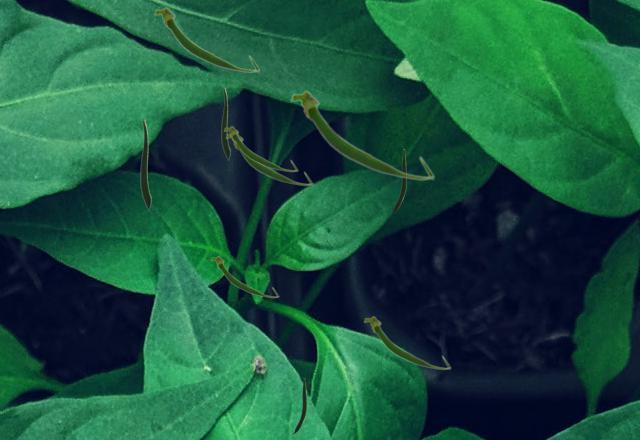french_bean: (289, 90, 434, 180), (153, 6, 259, 72), (363, 315, 450, 369), (225, 133, 312, 185), (223, 125, 297, 171), (210, 255, 278, 297), (390, 149, 405, 213), (140, 119, 150, 209), (292, 378, 305, 433), (221, 87, 229, 159)
